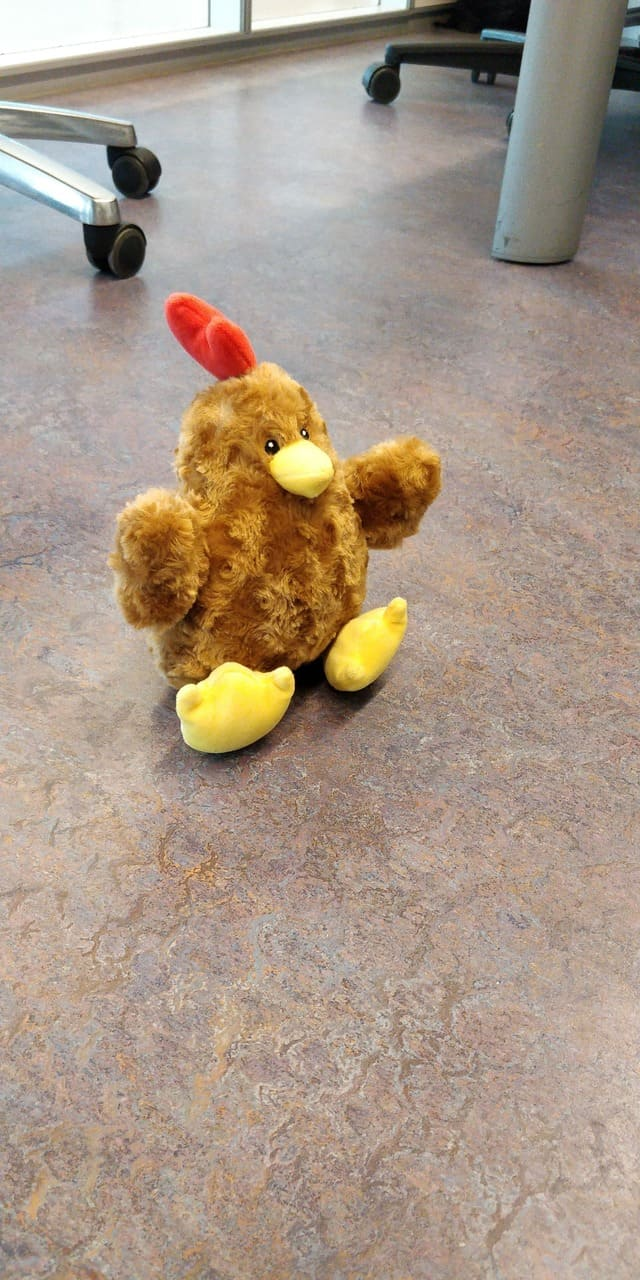fakeChicken: (107, 290, 442, 757)
